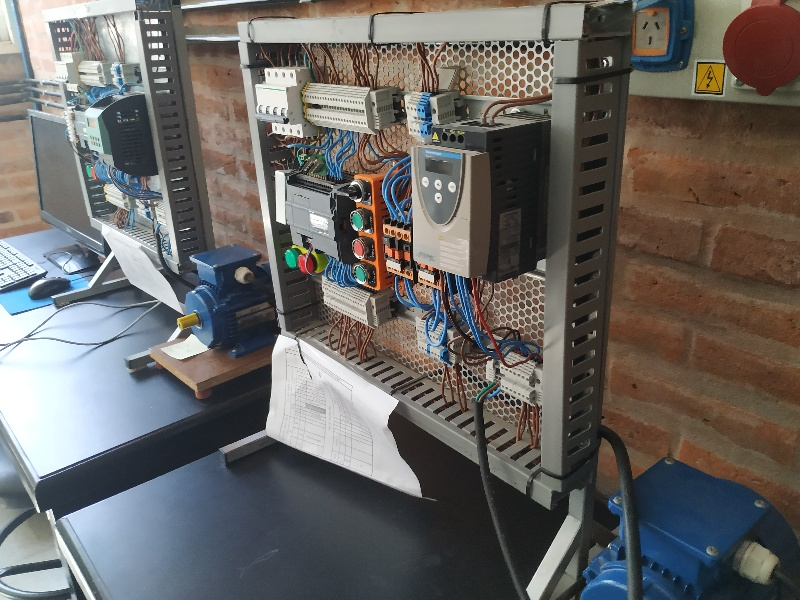Tablero 4: (243, 32, 573, 479)
